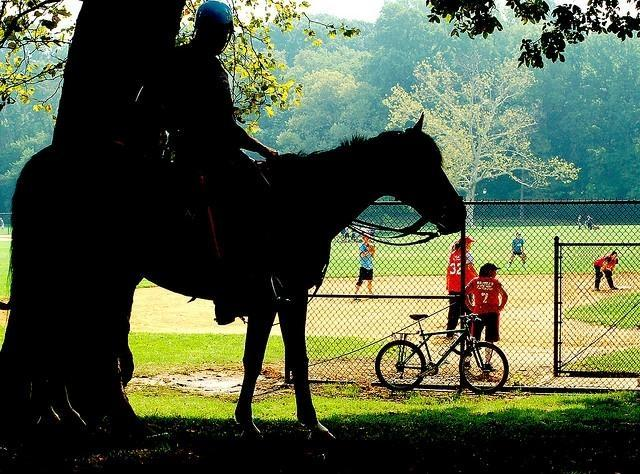bicycle: (376, 314, 509, 396)
